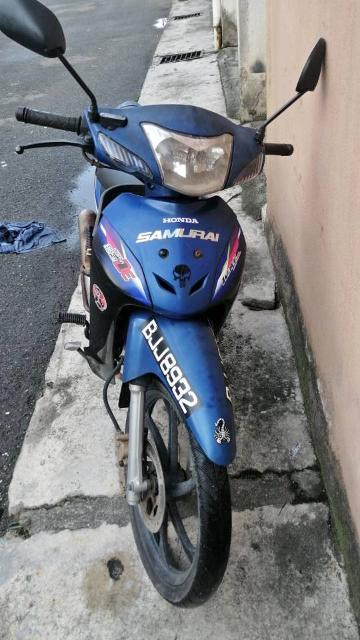License_Plate: (141, 318, 202, 424)
motorcycle: (2, 1, 326, 609)
